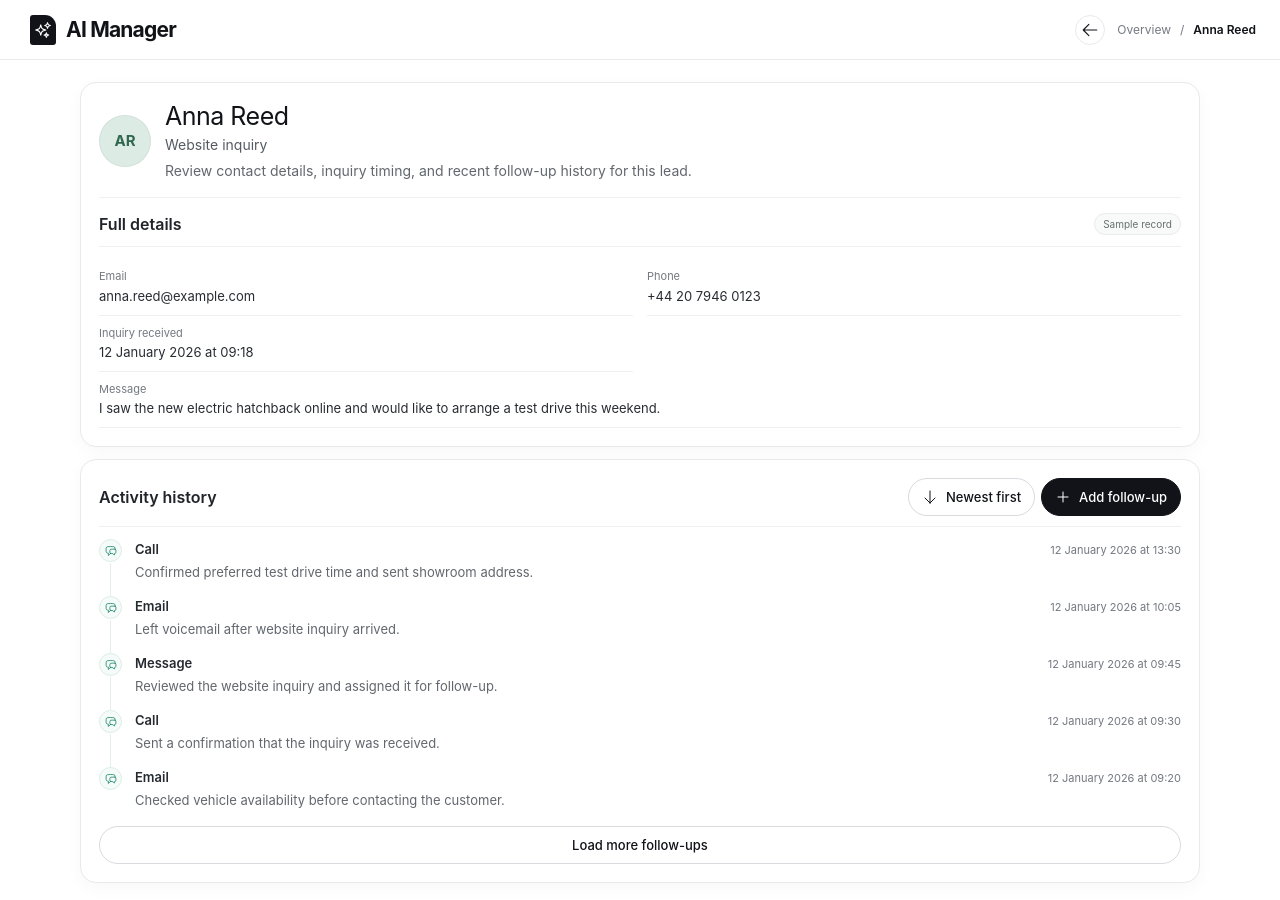
Test case: completed Follow-up recording › loads the next activity batch without duplicating history
Expected: the text "Confirmed preferred test drive time and sent showroom address." is shown, x1=135 y1=564 x2=533 y2=580
Click the button "Load more follow-ups" at (640, 845), box x1=99 y1=826 x2=1181 y2=864
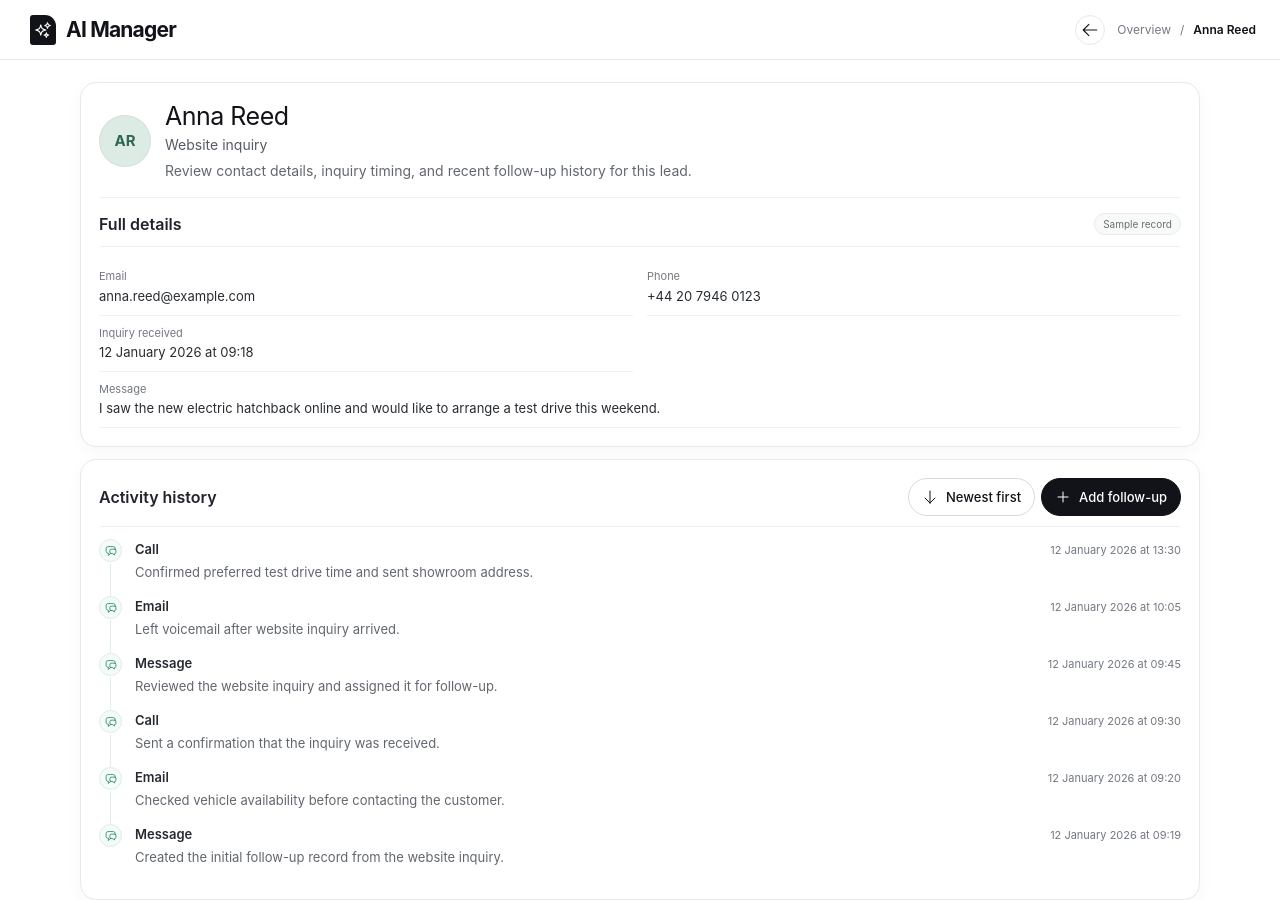
Now the text "Created the initial follow-up record from the website inquiry." is shown, box x1=135 y1=849 x2=504 y2=865
Now the button "Load more" is gone
Now the number of list items is 6, box x1=99 y1=539 x2=1181 y2=596; x1=99 y1=596 x2=1181 y2=653; x1=99 y1=653 x2=1181 y2=710; x1=99 y1=710 x2=1181 y2=767; x1=99 y1=767 x2=1181 y2=824; x1=99 y1=824 x2=1181 y2=881
